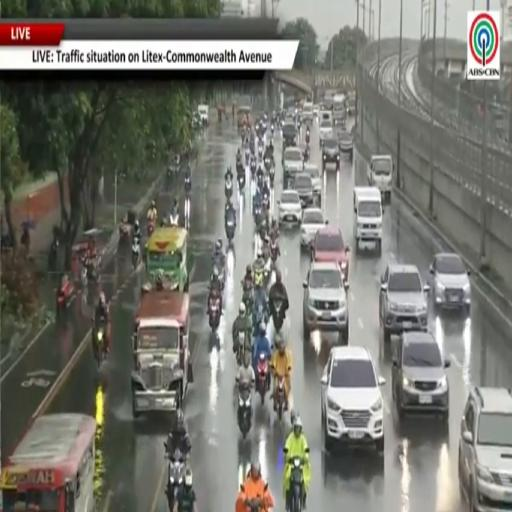bus: (0, 413, 95, 511)
car: (321, 346, 385, 455), (459, 388, 511, 511), (392, 331, 450, 422), (379, 263, 429, 342), (303, 263, 348, 344), (430, 253, 470, 313), (312, 227, 350, 281), (367, 154, 393, 202), (301, 207, 326, 247), (278, 189, 302, 224), (282, 147, 303, 186), (304, 163, 322, 205), (293, 172, 314, 207), (322, 137, 340, 170), (282, 121, 297, 156), (338, 130, 353, 156), (319, 117, 332, 146), (302, 102, 313, 124), (198, 105, 209, 125), (313, 104, 320, 119)
jeepney: (132, 290, 192, 417), (145, 227, 188, 291), (237, 105, 251, 132)
motorcycle: (166, 450, 185, 509), (289, 457, 303, 511), (238, 386, 251, 438), (56, 278, 73, 317), (253, 296, 267, 337), (257, 354, 268, 404), (95, 318, 106, 366), (274, 377, 285, 420), (81, 258, 97, 287), (211, 260, 225, 291), (209, 297, 221, 333), (47, 239, 59, 272), (273, 299, 285, 331), (224, 216, 236, 246), (236, 331, 245, 366), (270, 237, 279, 267), (243, 288, 253, 315), (264, 255, 272, 287), (132, 238, 140, 269), (245, 498, 264, 511), (254, 205, 262, 230), (254, 268, 264, 287), (225, 180, 232, 199), (238, 173, 245, 192), (147, 220, 155, 236), (269, 167, 275, 188), (170, 213, 179, 227), (236, 160, 244, 175), (250, 159, 256, 179), (303, 146, 309, 164), (264, 157, 271, 172), (263, 194, 269, 211), (245, 146, 250, 165), (258, 143, 263, 159), (271, 123, 275, 136), (306, 130, 309, 143)
truck: (333, 94, 347, 124)
